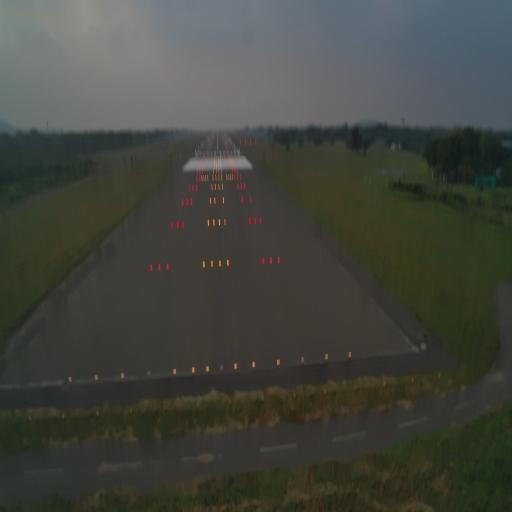off: (145, 367, 152, 380), (218, 362, 225, 372)
on: (275, 354, 282, 369), (67, 374, 74, 386), (93, 372, 100, 384), (120, 370, 126, 384), (300, 352, 305, 368), (148, 260, 154, 273), (208, 257, 214, 270), (218, 255, 223, 270), (171, 365, 177, 377), (232, 360, 238, 372), (348, 348, 354, 360), (249, 358, 256, 368), (202, 257, 207, 271), (276, 252, 281, 265), (190, 365, 196, 375), (205, 361, 210, 373), (324, 351, 330, 361), (157, 262, 162, 274), (225, 258, 230, 269), (166, 262, 171, 272), (262, 254, 266, 266), (269, 255, 273, 267)
